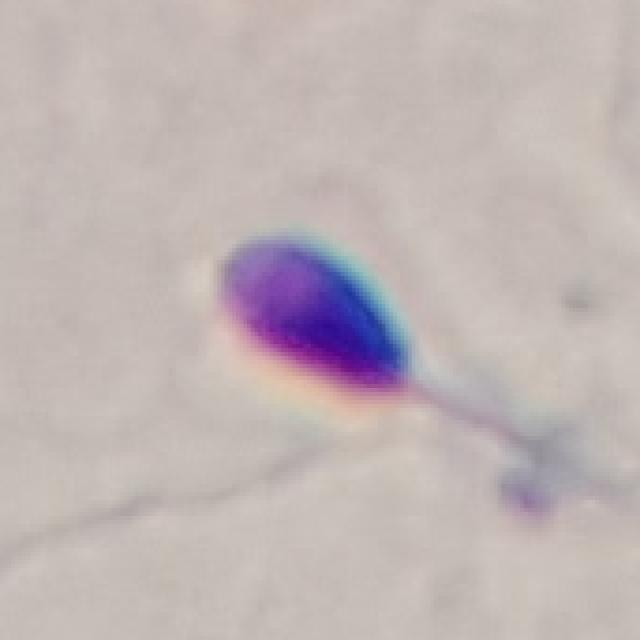normal sperm: (216, 231, 511, 437)
